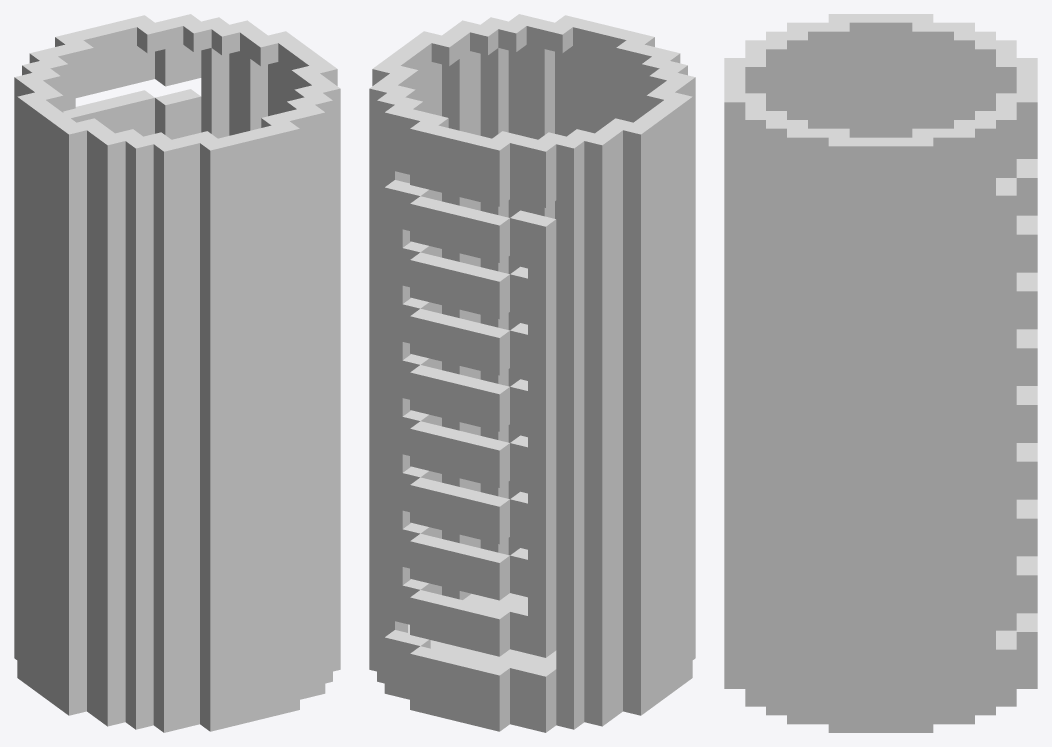
File: bottle.fbx
The picture shows the model from 3 angles, left to right: view 1: azimuth 30°, elevation 25°; view 2: azimuth 150°, elevation 25°; view 3: azimuth 270°, elevation 25°; orthographic projection.
Parts seen in each view (by area): view 1: bottle; view 2: bottle; view 3: bottle.
Boxes of the visible parts, box(x1,y1,x2,y2) form: bottle: box(14, 14, 340, 732); bottle: box(369, 14, 695, 732); bottle: box(724, 14, 1037, 732).
Size of the model in its own units: 15 by 31 by 15.
Materials: 1 (1 with a texture image).
